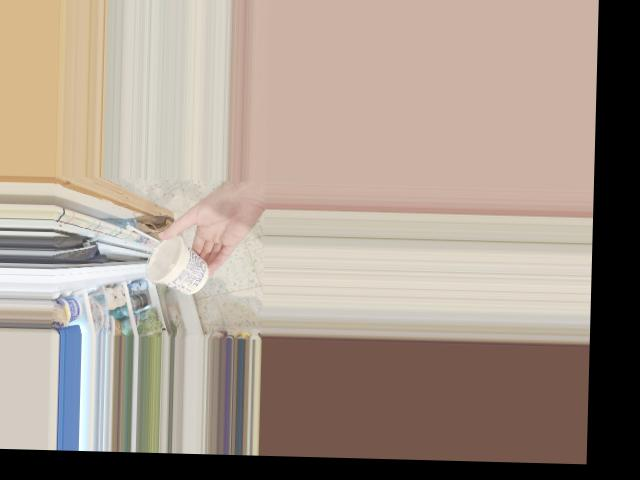cotage: (143, 238, 204, 292)
